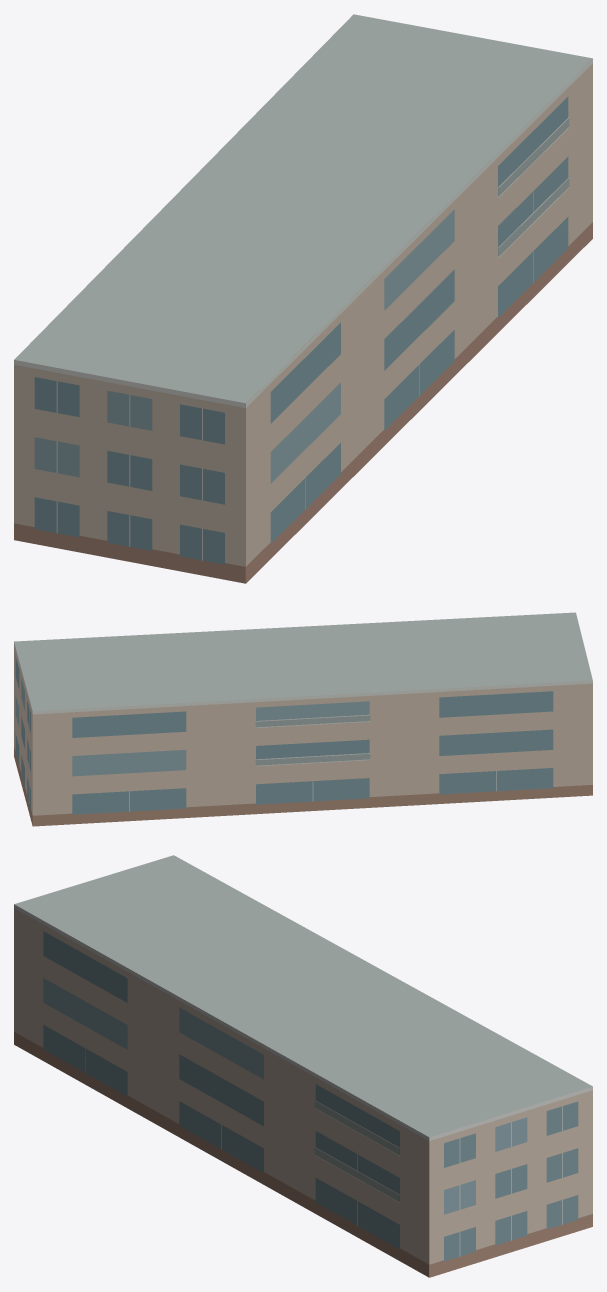
The model's file is survey-upis-33004978.glb.
3 views of the same model, one above another, from view 1: azimuth 30°, elevation 25°; view 2: azimuth 150°, elevation 25°; view 3: azimuth 270°, elevation 25° (orthographic). The views are drawn at different scales.
Parts seen in each view (by area): view 1: survey-upis-33004978.tmp; view 2: survey-upis-33004978.tmp; view 3: survey-upis-33004978.tmp.
Boxes of the visible parts, x1,y1,x2,y2 form: survey-upis-33004978.tmp: (14,14,592,583); survey-upis-33004978.tmp: (14,612,592,826); survey-upis-33004978.tmp: (14,855,592,1277).
Bounding box in the file's own units: 39.46 × 9.15 × 34.2.
